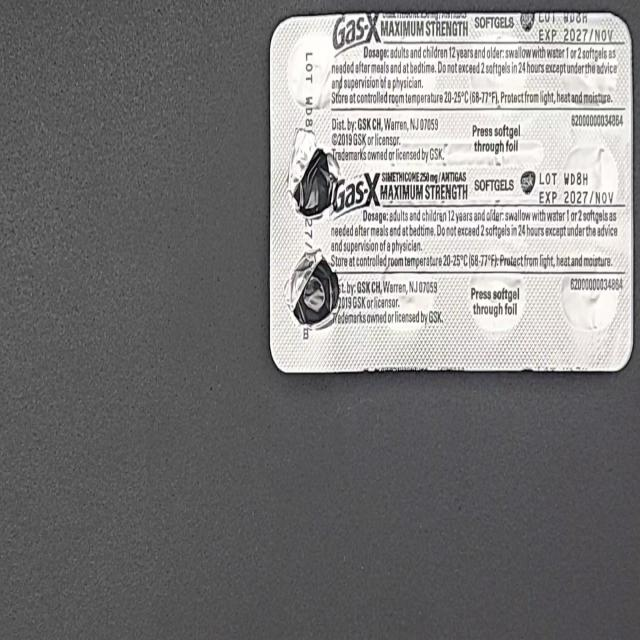defect: (284, 122, 342, 224), (282, 246, 342, 336)
